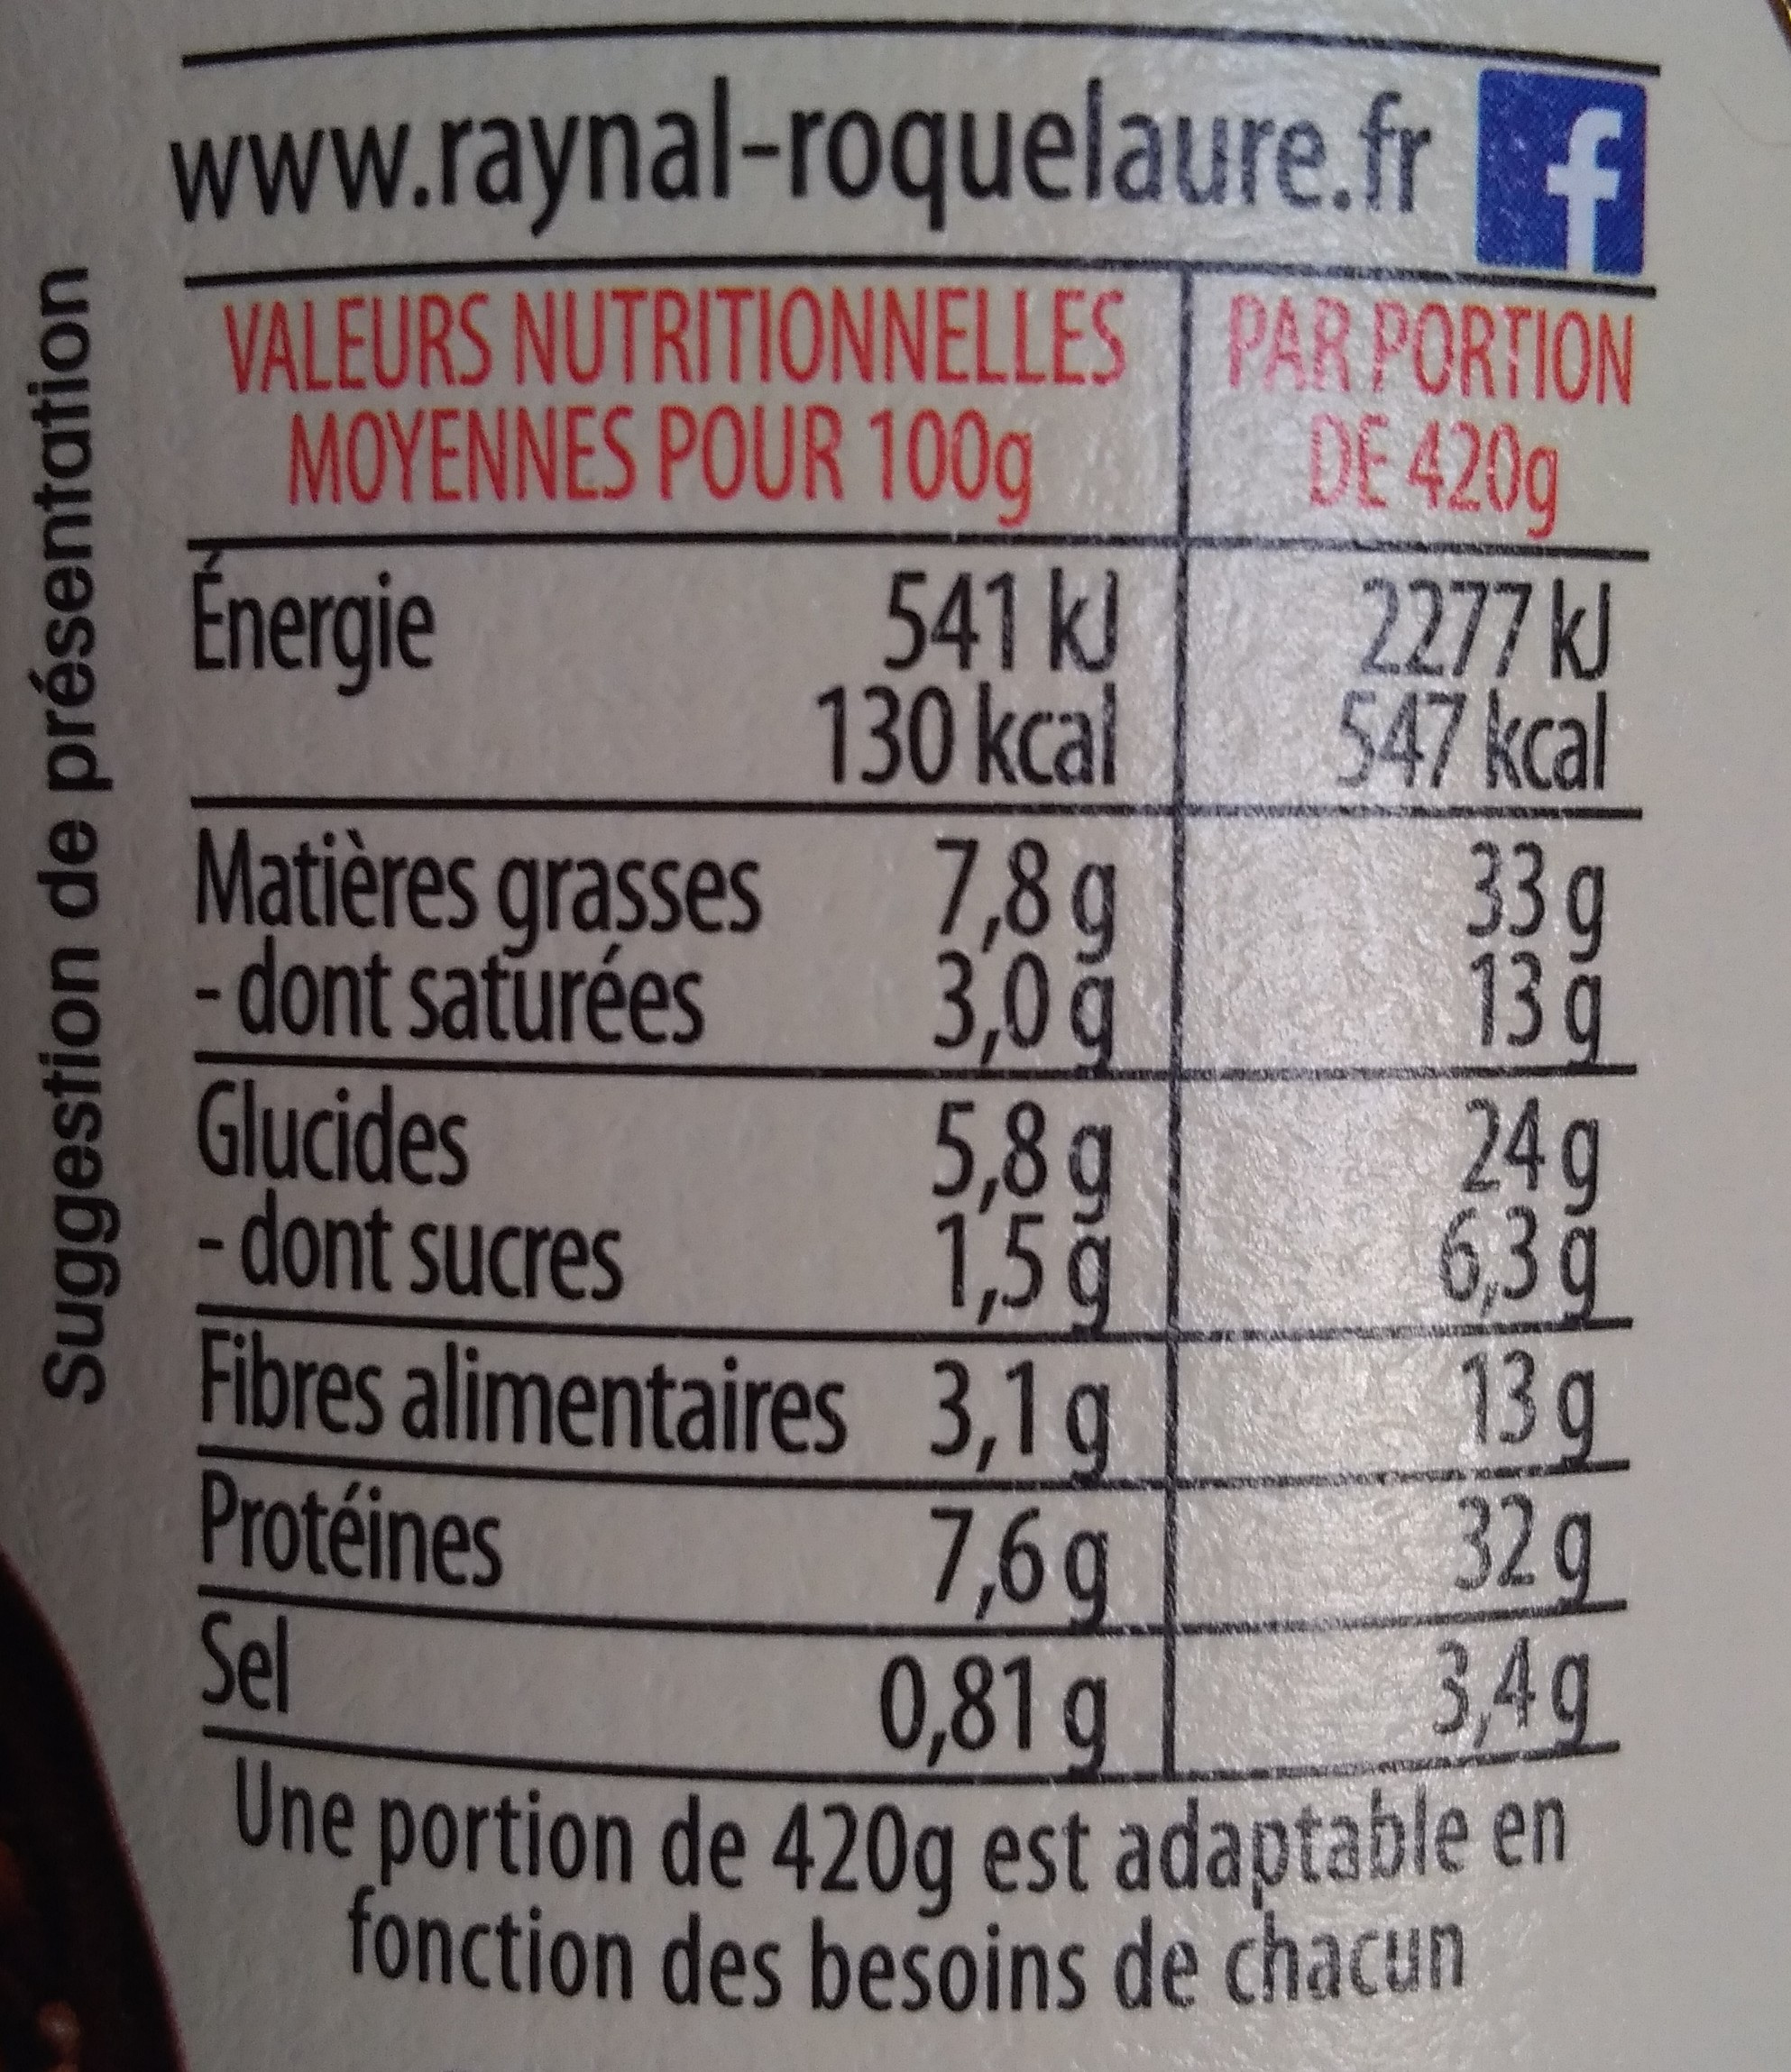column: (201, 280, 1128, 1774), (1229, 300, 1638, 1751)
table: (166, 42, 1662, 1769)
